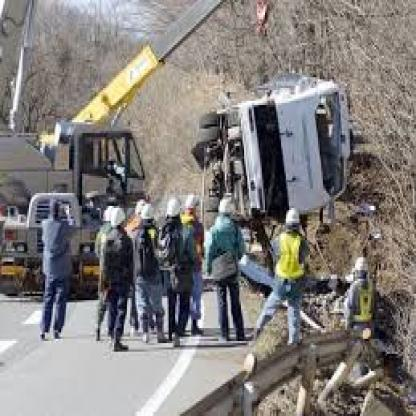accident: (187, 69, 405, 236)
